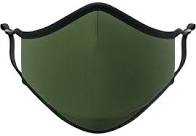cloth_mask: (1, 2, 194, 136)
